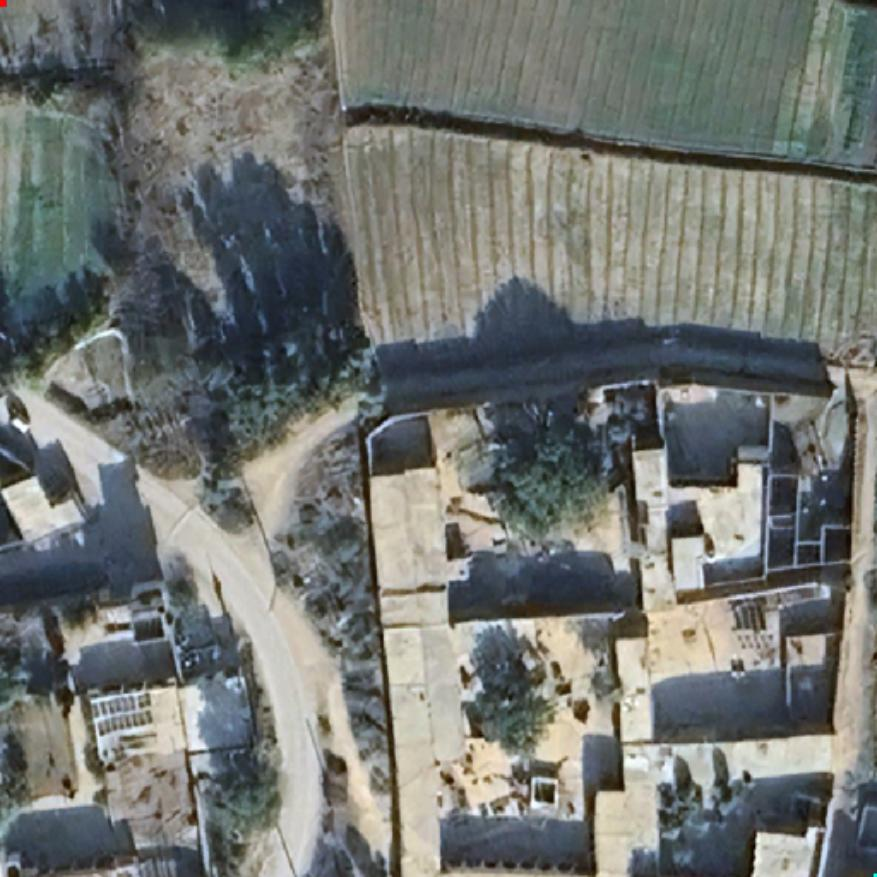Solarpanel: (88, 690, 156, 740), (734, 632, 775, 649)
